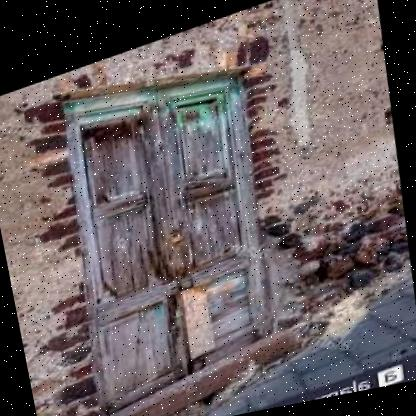door: (21, 63, 303, 416)
